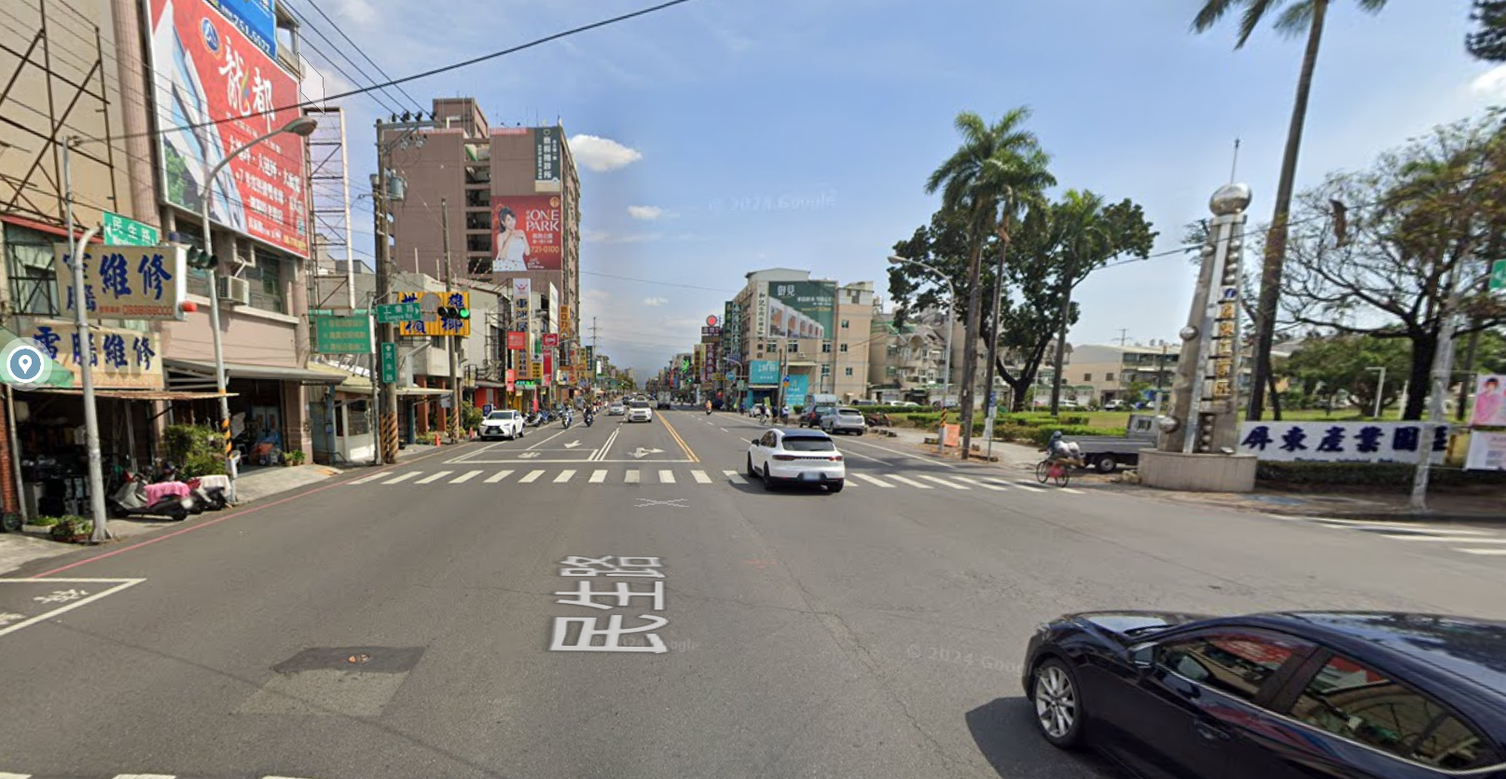green: (435, 306, 473, 322)
